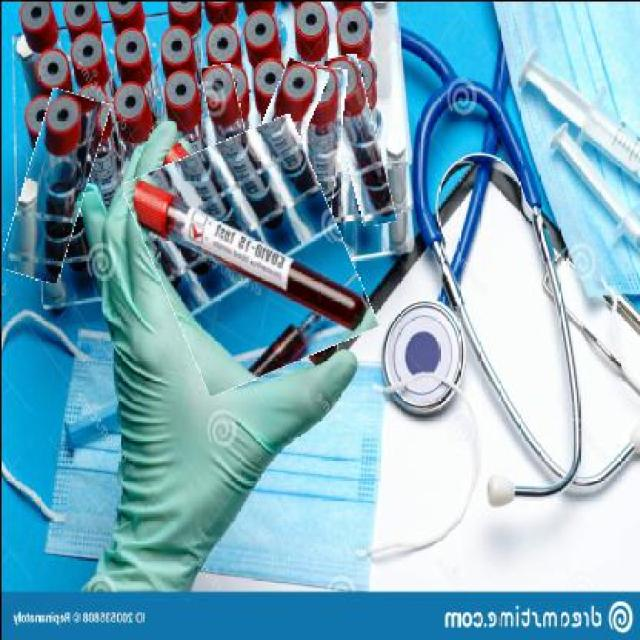Experimental-tube: (138, 125, 359, 382), (11, 88, 95, 281), (235, 56, 310, 238), (332, 54, 386, 226), (288, 64, 341, 227), (207, 63, 256, 239)
